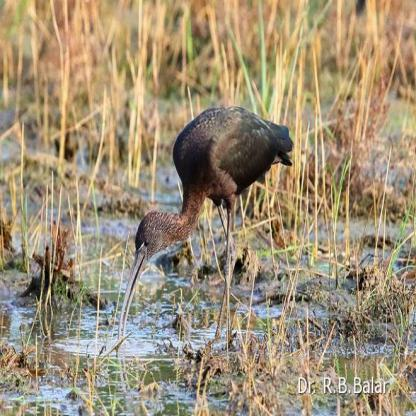Burung: (111, 109, 296, 354)
